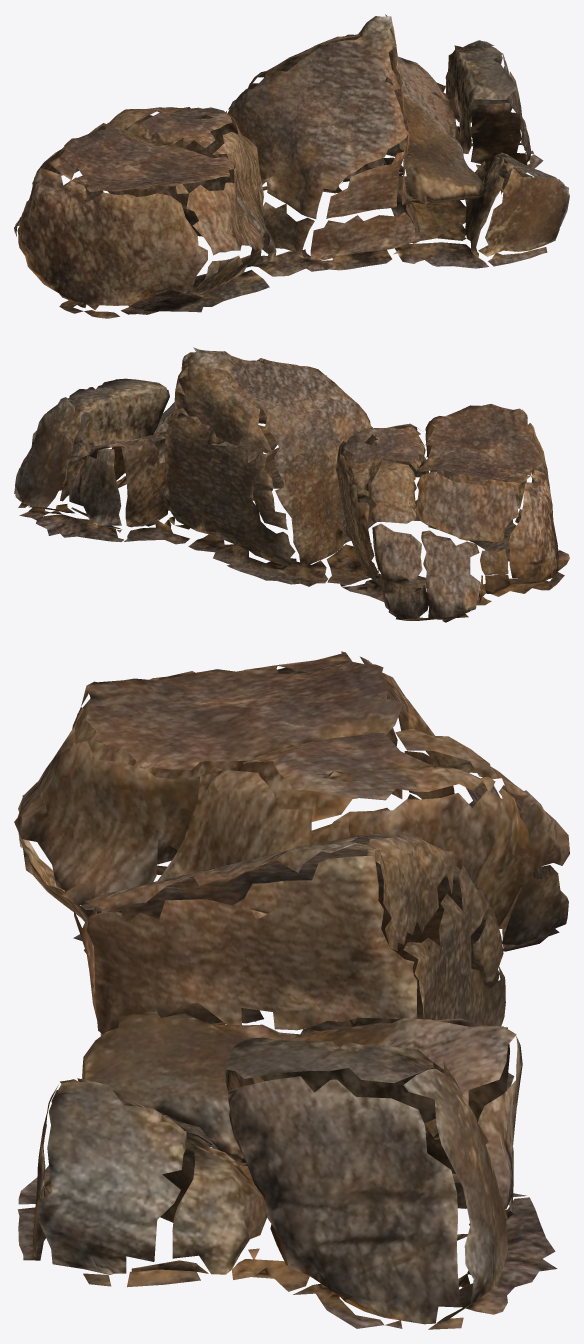
The model's file is boulder-a.glb.
3 views of the same model, one above another, from view 1: azimuth 30°, elevation 25°; view 2: azimuth 150°, elevation 25°; view 3: azimuth 270°, elevation 25° (orthographic). The views are drawn at different scales.
Parts seen in each view (by area): view 1: boulder_02; view 2: boulder_02; view 3: boulder_02.
Boxes of the visible parts, left/top/right/bottom form: boulder_02: left=14, top=14, right=569, bottom=318; boulder_02: left=14, top=347, right=569, bottom=622; boulder_02: left=14, top=651, right=569, bottom=1329.
Size of the model in its own units: 2.47 by 0.8585 by 1.22.
1 material, 1 textured.
